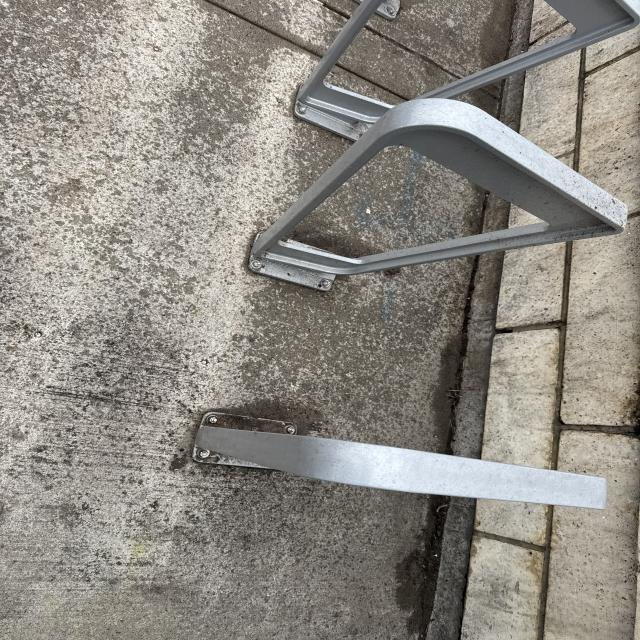Bicycle Rack: (238, 101, 633, 294), (288, 0, 639, 131), (192, 410, 602, 515)
